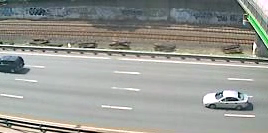car: (200, 89, 252, 114), (1, 53, 29, 76)
